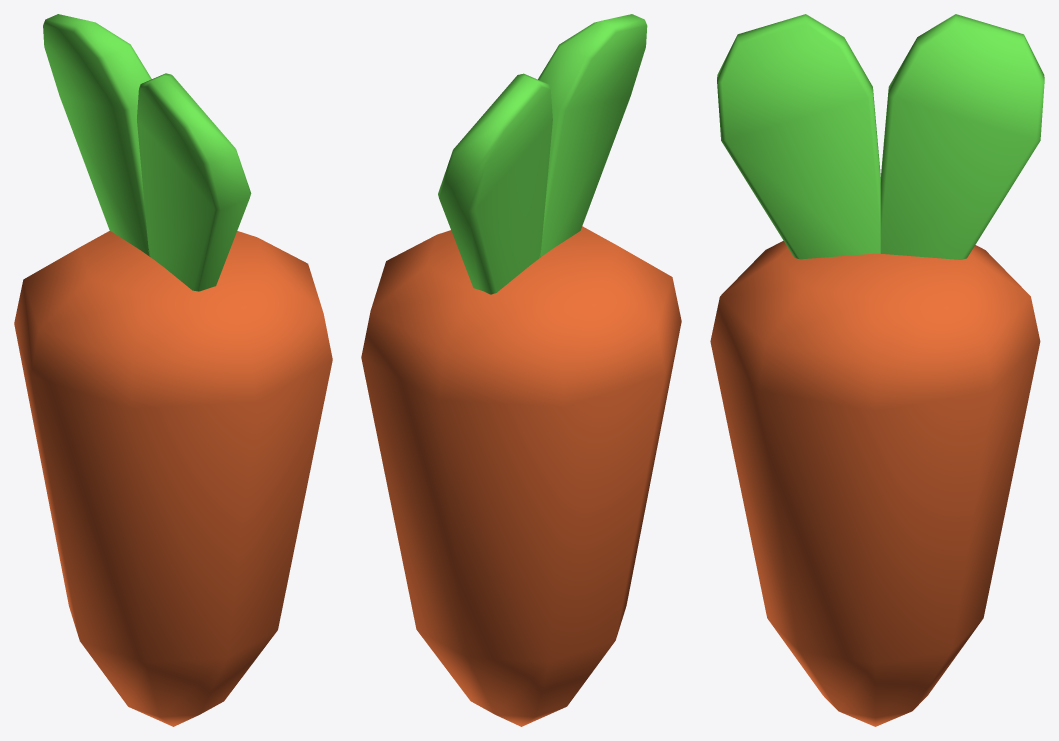
File: Carrot_01.fbx
The picture shows the model from 3 angles, left to right: view 1: azimuth 30°, elevation 25°; view 2: azimuth 150°, elevation 25°; view 3: azimuth 270°, elevation 25°; orthographic projection.
Parts seen in each view (by area): view 1: Carrot_01; view 2: Carrot_01; view 3: Carrot_01.
Part boxes in pixels (box(x1,y1,x2,y2)): Carrot_01: box(14, 14, 332, 726); Carrot_01: box(361, 14, 681, 726); Carrot_01: box(710, 14, 1044, 726).
Bounding box in the file's own units: 55.87 × 128 × 56.57.
